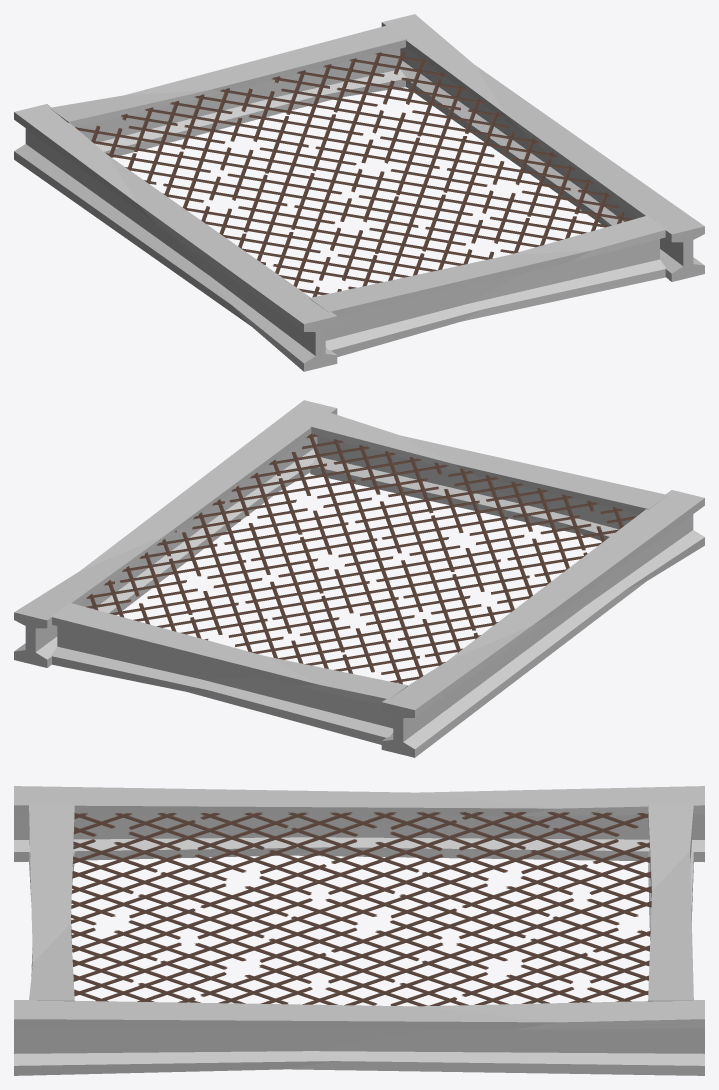
The model's file is SM_Prop_IndustrialWalkway_x1_01.fbx.
3 views of the same model, one above another, from view 1: azimuth 30°, elevation 25°; view 2: azimuth 150°, elevation 25°; view 3: azimuth 270°, elevation 25° (orthographic). The views are drawn at different scales.
Parts seen in each view (by area): view 1: SM_Prop_IndustrialWalkway_x1_01; view 2: SM_Prop_IndustrialWalkway_x1_01; view 3: SM_Prop_IndustrialWalkway_x1_01.
Boxes of the visible parts, x1,y1,x2,y2 form: SM_Prop_IndustrialWalkway_x1_01: (14, 14, 704, 371); SM_Prop_IndustrialWalkway_x1_01: (14, 400, 704, 757); SM_Prop_IndustrialWalkway_x1_01: (14, 786, 704, 1075).
Size of the model in its own units: 251 by 28.52 by 315.
